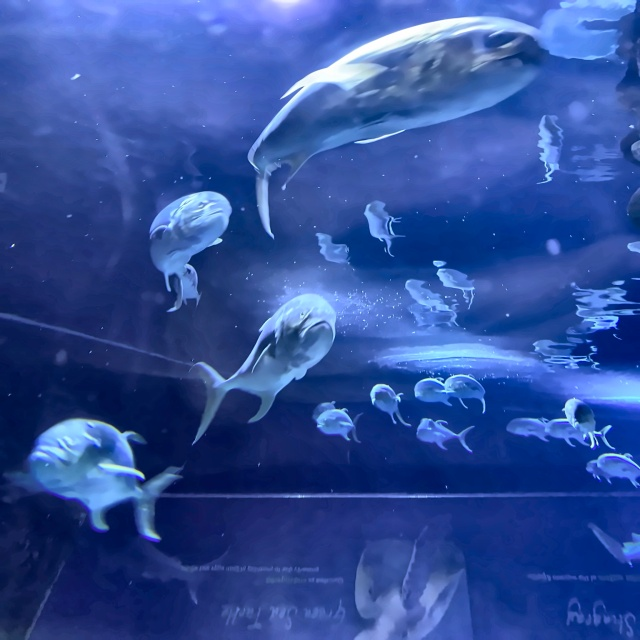fish: (246, 17, 545, 239), (191, 293, 336, 443), (28, 418, 180, 541), (148, 191, 232, 313), (416, 419, 472, 452), (441, 375, 486, 416), (548, 424, 612, 447), (316, 408, 360, 441), (370, 384, 405, 425), (565, 399, 595, 446), (598, 453, 639, 487), (507, 417, 561, 441), (585, 460, 639, 482), (415, 379, 451, 403)
